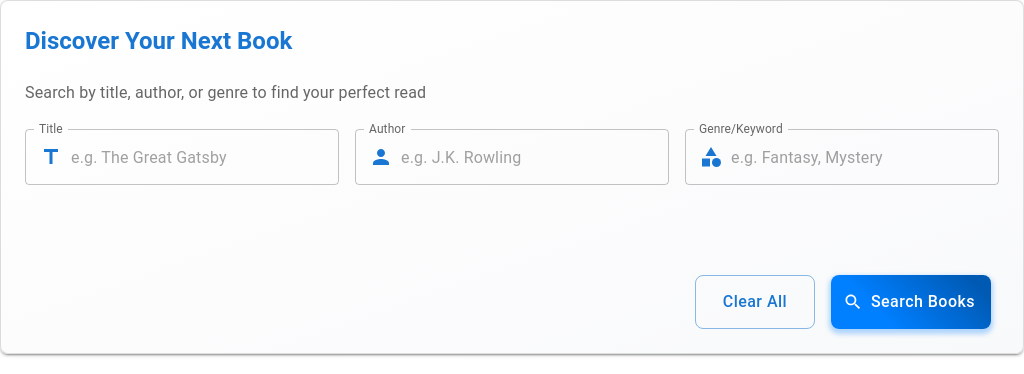
it: SearchForm › handles search with no results
Type "Nonexistent Book" into the field labelled "Title" at (205, 157), box [71,129,339,185]
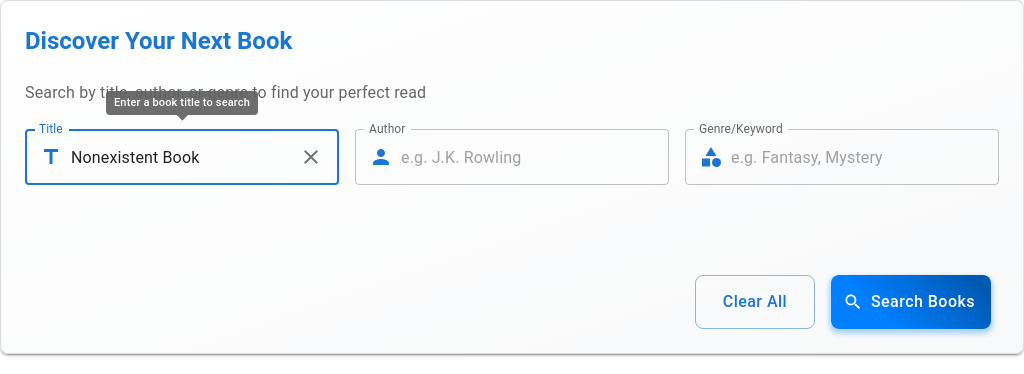
Click the button "Search Books" at (911, 302), box [831,275,991,329]
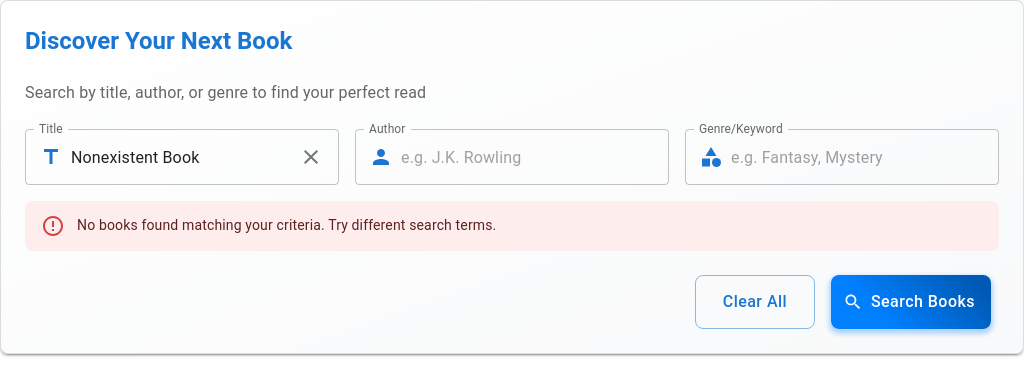
Check: the text "No books found matching your criteria. Try different search terms." is shown, box [77,217,496,233]
